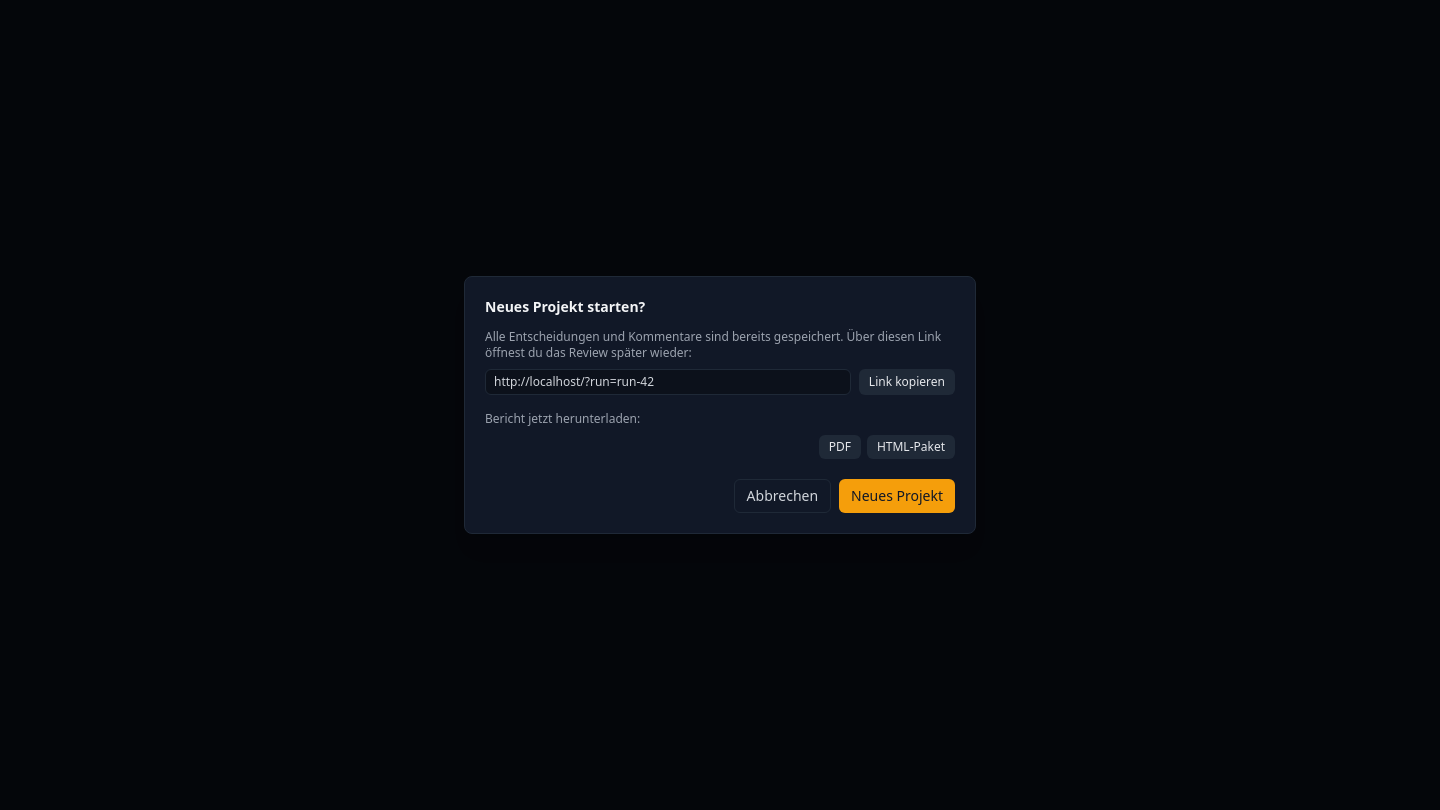
Test: ConfirmNewProject › copies the link to the clipboard
The width and height of the screenshot is (1440, 810).
Step 1. Click the button "Link kopieren" → click(907, 382), box [859,369,955,395]
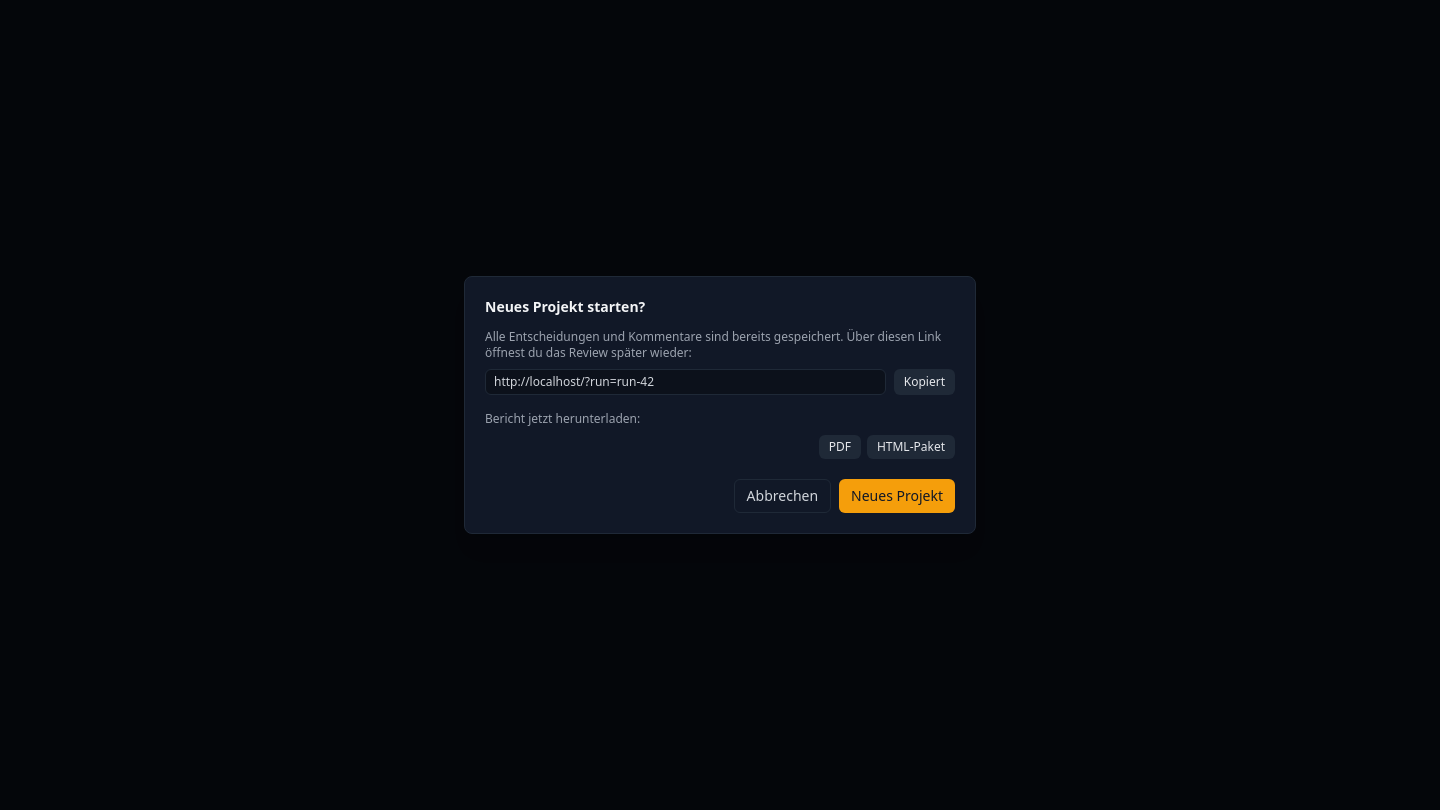
Check: the button "Kopiert" is shown, box [894,369,955,395]
